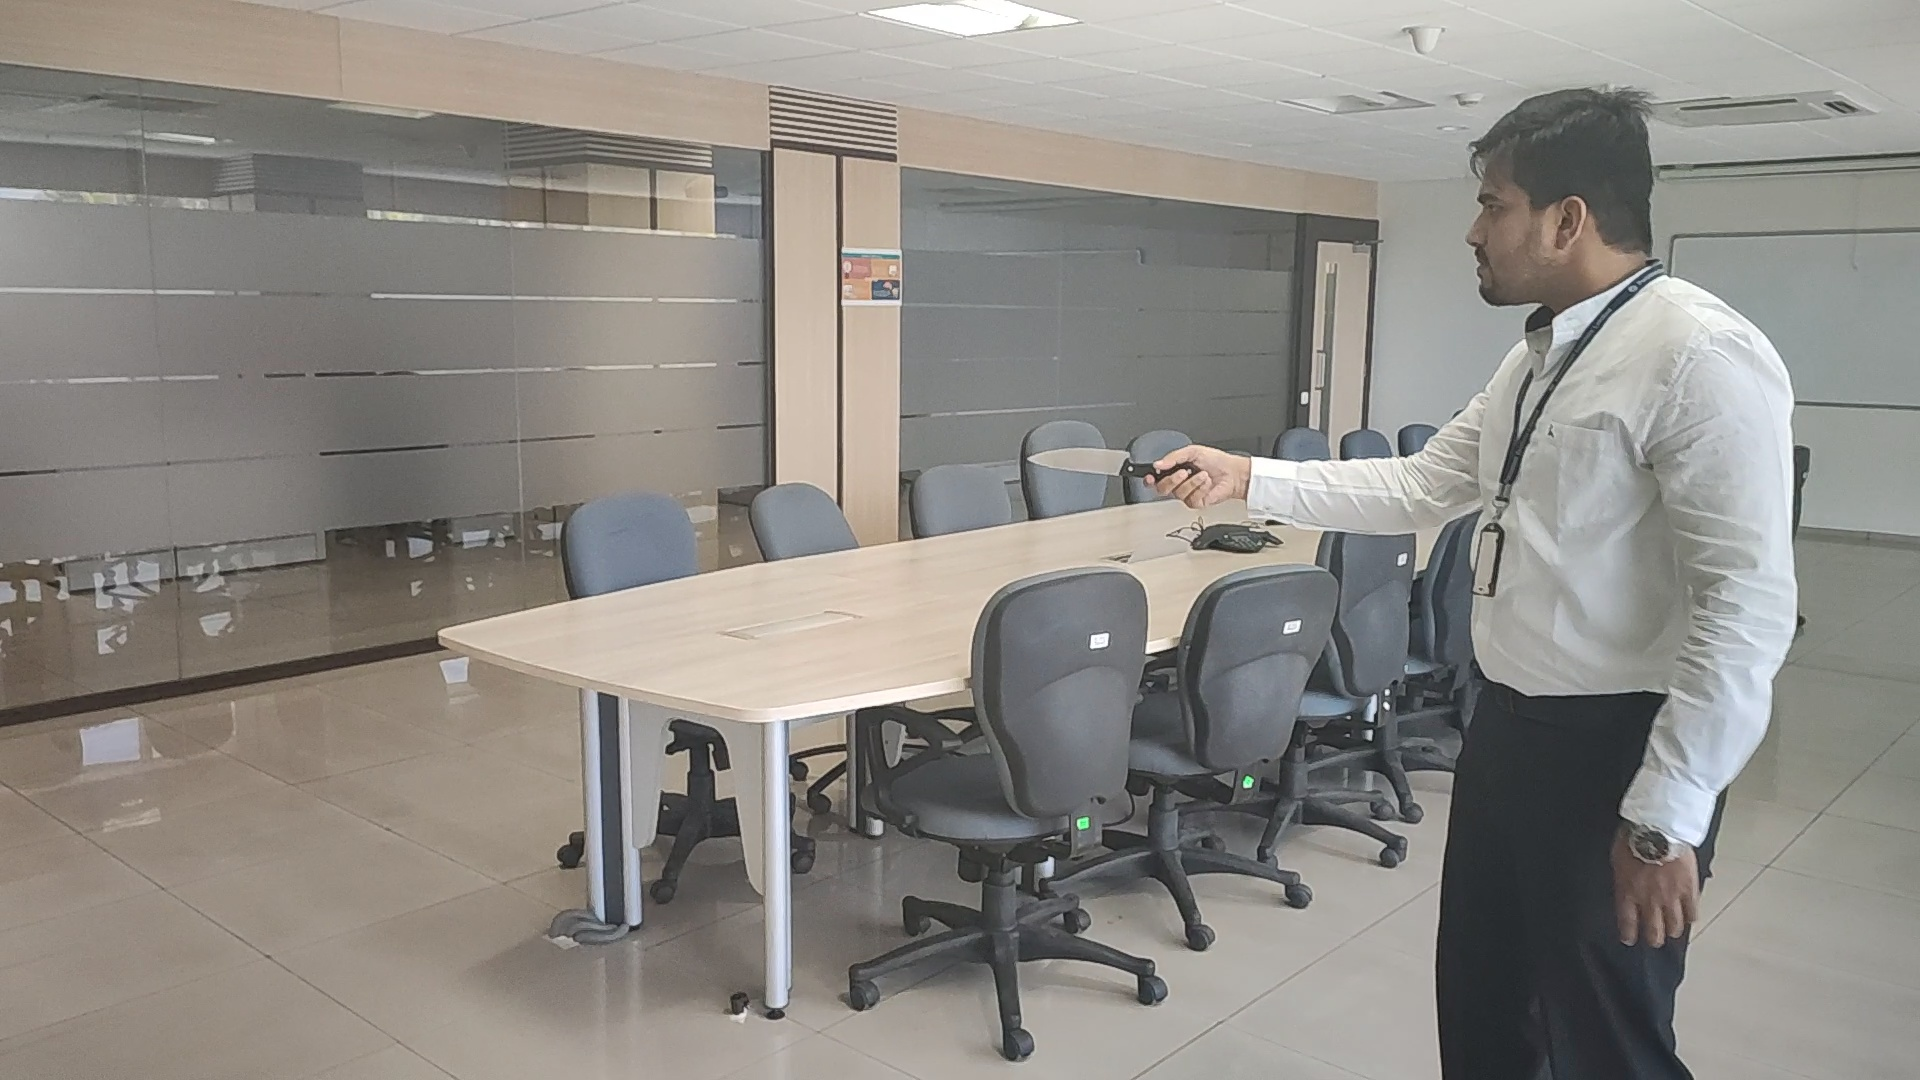knife: (1026, 448, 1160, 477)
